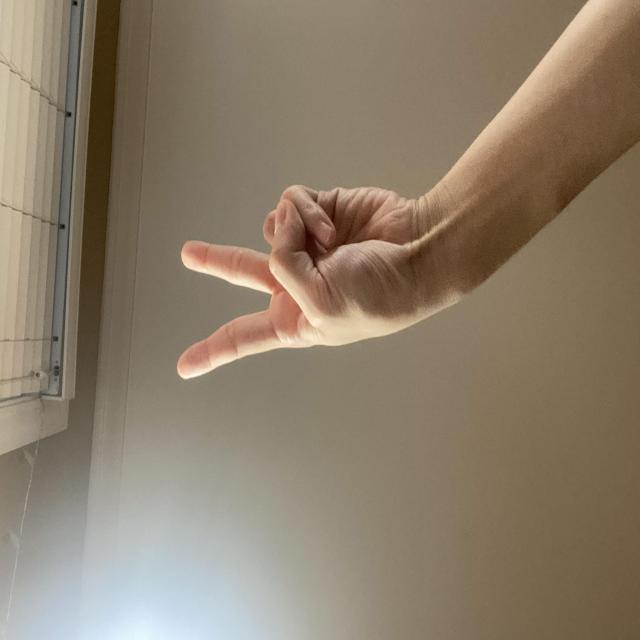V: (184, 222, 352, 580)
